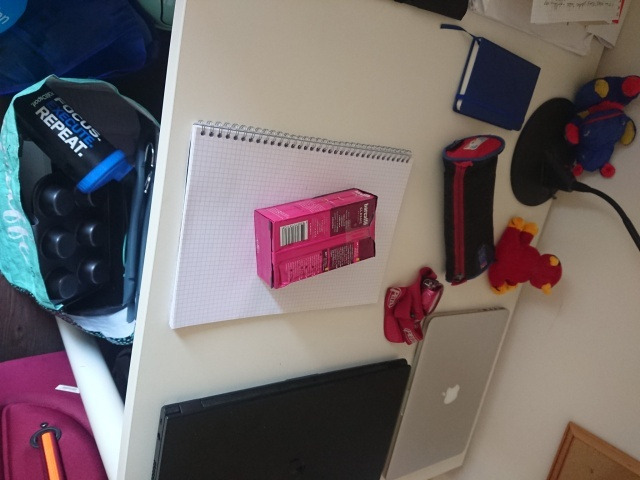Barcaffe Classic Original 225g: (251, 186, 381, 291)
